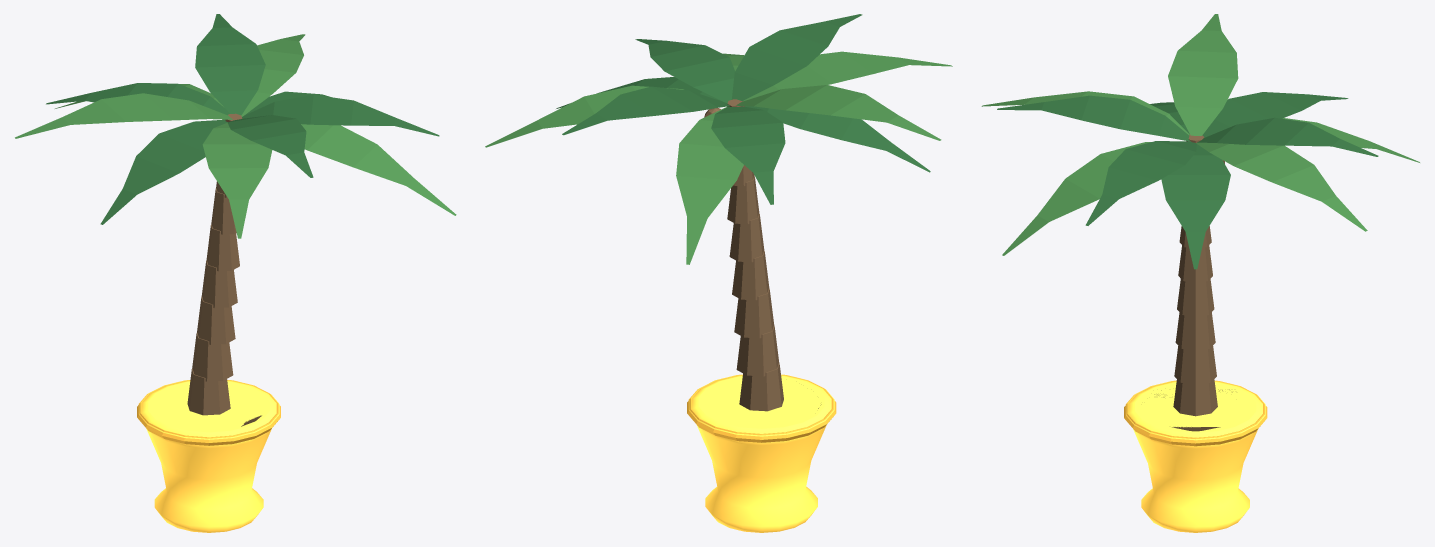
Rendered from lux_gold_palm.glb.
3 views of the same model, side by side, from view 1: azimuth 30°, elevation 25°; view 2: azimuth 150°, elevation 25°; view 3: azimuth 270°, elevation 25° (orthographic). The views are drawn at different scales.
Parts seen in each view (by area): view 1: lux_gold_palm; view 2: lux_gold_palm; view 3: lux_gold_palm.
Part boxes in pixels (x1=…): lux_gold_palm: x1=15, y1=14, x2=456, y2=532; lux_gold_palm: x1=485, y1=14, x2=952, y2=532; lux_gold_palm: x1=981, y1=14, x2=1419, y2=532.
Size of the model in its own units: 2.71 by 2.85 by 2.71.
